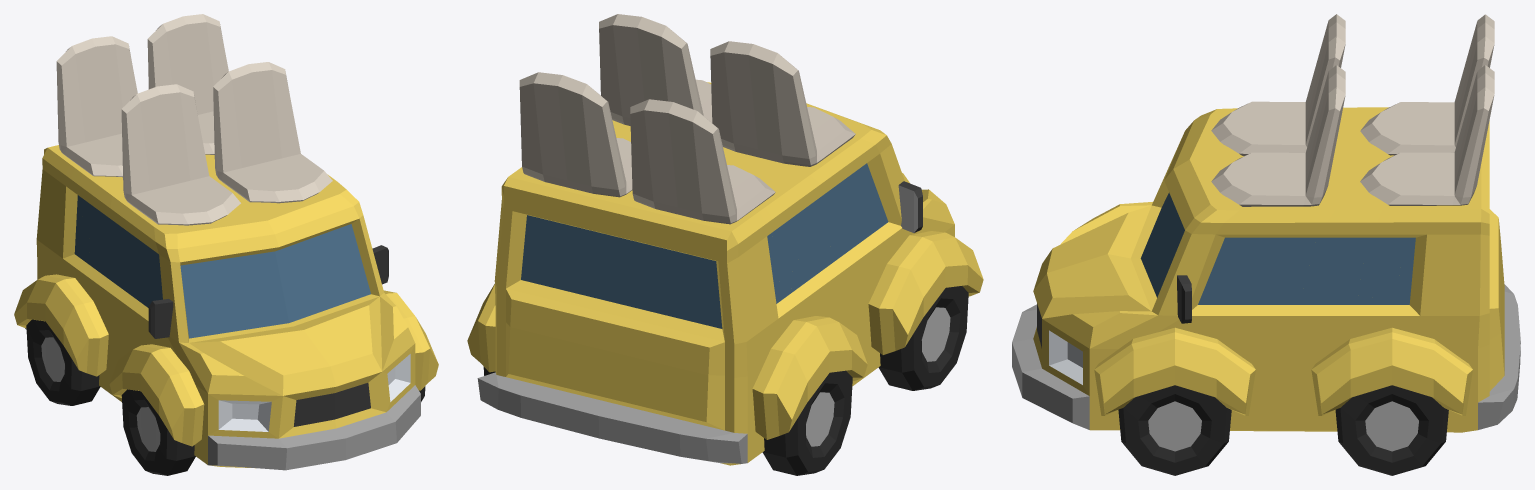
The model's file is Buss_Yellow.fbx.
3 views of the same model, side by side, from view 1: azimuth 30°, elevation 25°; view 2: azimuth 150°, elevation 25°; view 3: azimuth 270°, elevation 25° (orthographic). The views are drawn at different scales.
Visible parts, largest first — view 1: Bus_Yellow; view 2: Bus_Yellow; view 3: Bus_Yellow.
Boxes of the visible parts, x1,y1,x2,y2 form: Bus_Yellow: (14,14,438,475); Bus_Yellow: (467,14,983,475); Bus_Yellow: (1012,14,1520,475).
Size of the model in its own units: 483 by 548 by 700.
